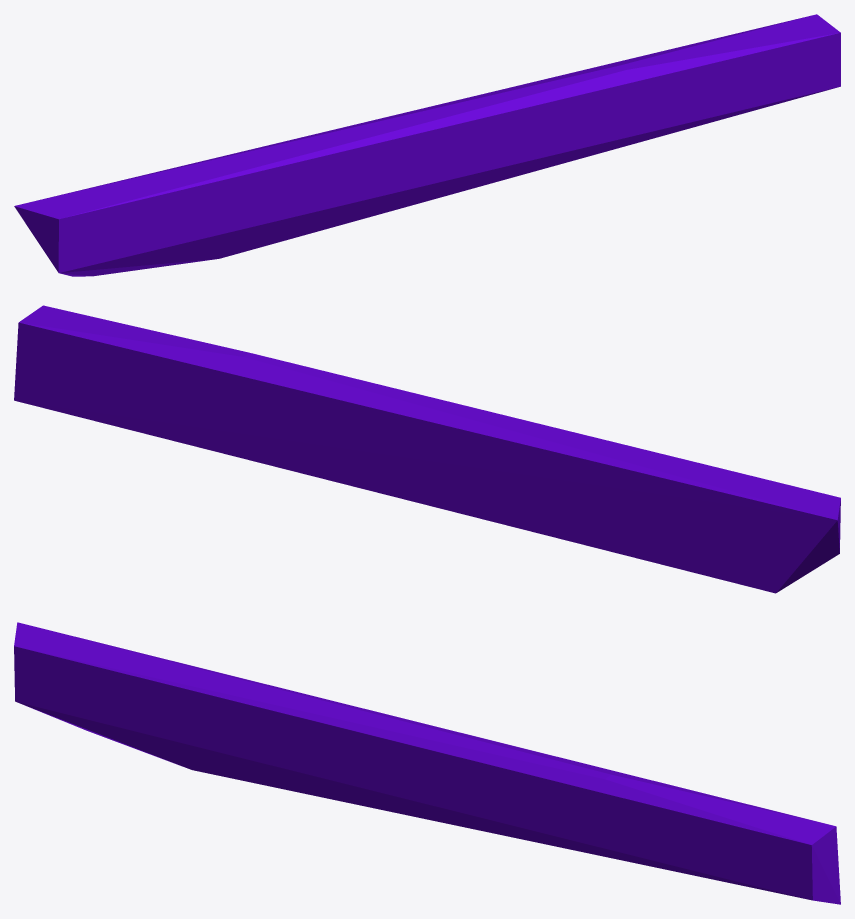
File: recycle_bin_convex_piece_006.obj
3 views of the same model, one above another, from view 1: azimuth 30°, elevation 25°; view 2: azimuth 150°, elevation 25°; view 3: azimuth 330°, elevation 25° (orthographic). The views are drawn at different scales.
Size of the model in its own units: 0.3196 by 0.0346 by 0.0177.
